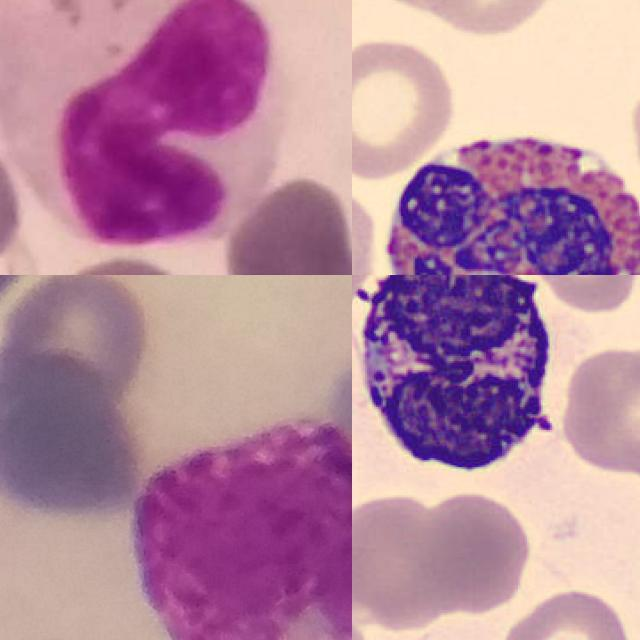Basophil: (352, 275, 574, 502), (129, 418, 352, 640)
Eosinophil: (370, 115, 640, 275)
Monocyte: (0, 0, 271, 247)
RBC: (352, 482, 552, 640), (369, 0, 577, 94), (551, 456, 640, 640), (352, 36, 459, 180), (418, 488, 534, 617), (557, 341, 640, 477), (496, 583, 633, 640), (411, 0, 560, 36), (503, 275, 640, 312)
